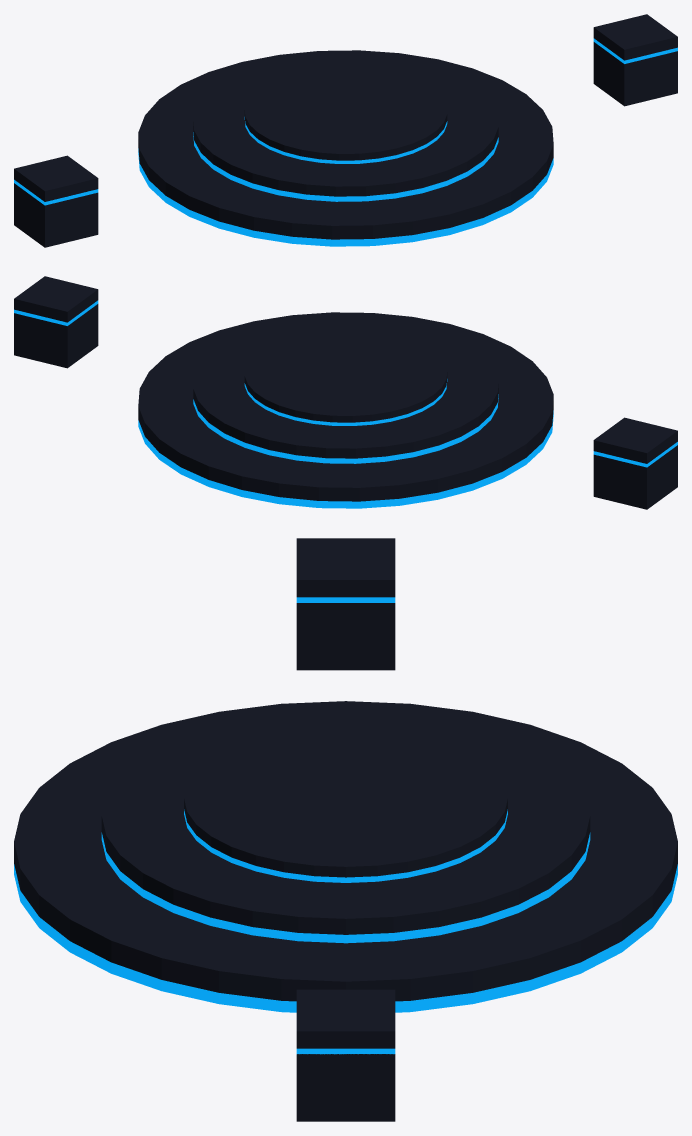
The model's file is podium.glb.
3 views of the same model, one above another, from view 1: azimuth 30°, elevation 25°; view 2: azimuth 150°, elevation 25°; view 3: azimuth 270°, elevation 25° (orthographic). The views are drawn at different scales.
Visible parts, largest first — view 1: Cylinder.001, Cylinder.003, Cylinder.005, Cube.002, Cube.001, Cylinder, Cube.004, Cube.006, Cylinder.002, Cylinder.004; view 2: Cylinder.001, Cylinder.003, Cylinder.005, Cube.002, Cube.001, Cylinder, Cube.004, Cube.006, Cylinder.002, Cylinder.004; view 3: Cylinder.001, Cylinder.003, Cylinder.005, Cylinder, Cube.002, Cube.001, Cube.004, Cube.006, Cylinder.002, Cylinder.004.
Part boxes in pixels (box(x1,y1,x2,y2)): Cylinder.001: box(138, 50, 553, 239); Cylinder.003: box(193, 57, 498, 196); Cylinder.005: box(244, 68, 447, 160); Cube.002: box(593, 42, 677, 106); Cube.001: box(14, 183, 98, 247); Cylinder: box(138, 148, 553, 246); Cube.004: box(14, 155, 98, 201); Cube.006: box(593, 14, 677, 60); Cylinder.002: box(193, 132, 498, 201); Cylinder.004: box(244, 117, 447, 163); Cylinder.001: box(138, 312, 553, 501); Cylinder.003: box(193, 319, 498, 458); Cylinder.005: box(244, 330, 447, 422); Cube.002: box(14, 304, 98, 368); Cube.001: box(593, 445, 677, 509); Cylinder: box(138, 410, 553, 508); Cube.004: box(593, 417, 677, 463); Cube.006: box(14, 276, 98, 322); Cylinder.002: box(193, 394, 498, 463); Cylinder.004: box(244, 379, 447, 425); Cylinder.001: box(14, 701, 677, 1001); Cylinder.003: box(101, 712, 590, 934); Cylinder.005: box(184, 730, 507, 877); Cylinder: box(14, 864, 677, 1012); Cube.002: box(296, 1054, 395, 1121); Cube.001: box(296, 603, 395, 670); Cube.004: box(296, 538, 395, 597); Cube.006: box(296, 989, 395, 1048); Cylinder.002: box(101, 832, 590, 943); Cylinder.004: box(184, 809, 507, 882).
Size of the model in its own units: 9.61 by 0.8206 by 5.47.
